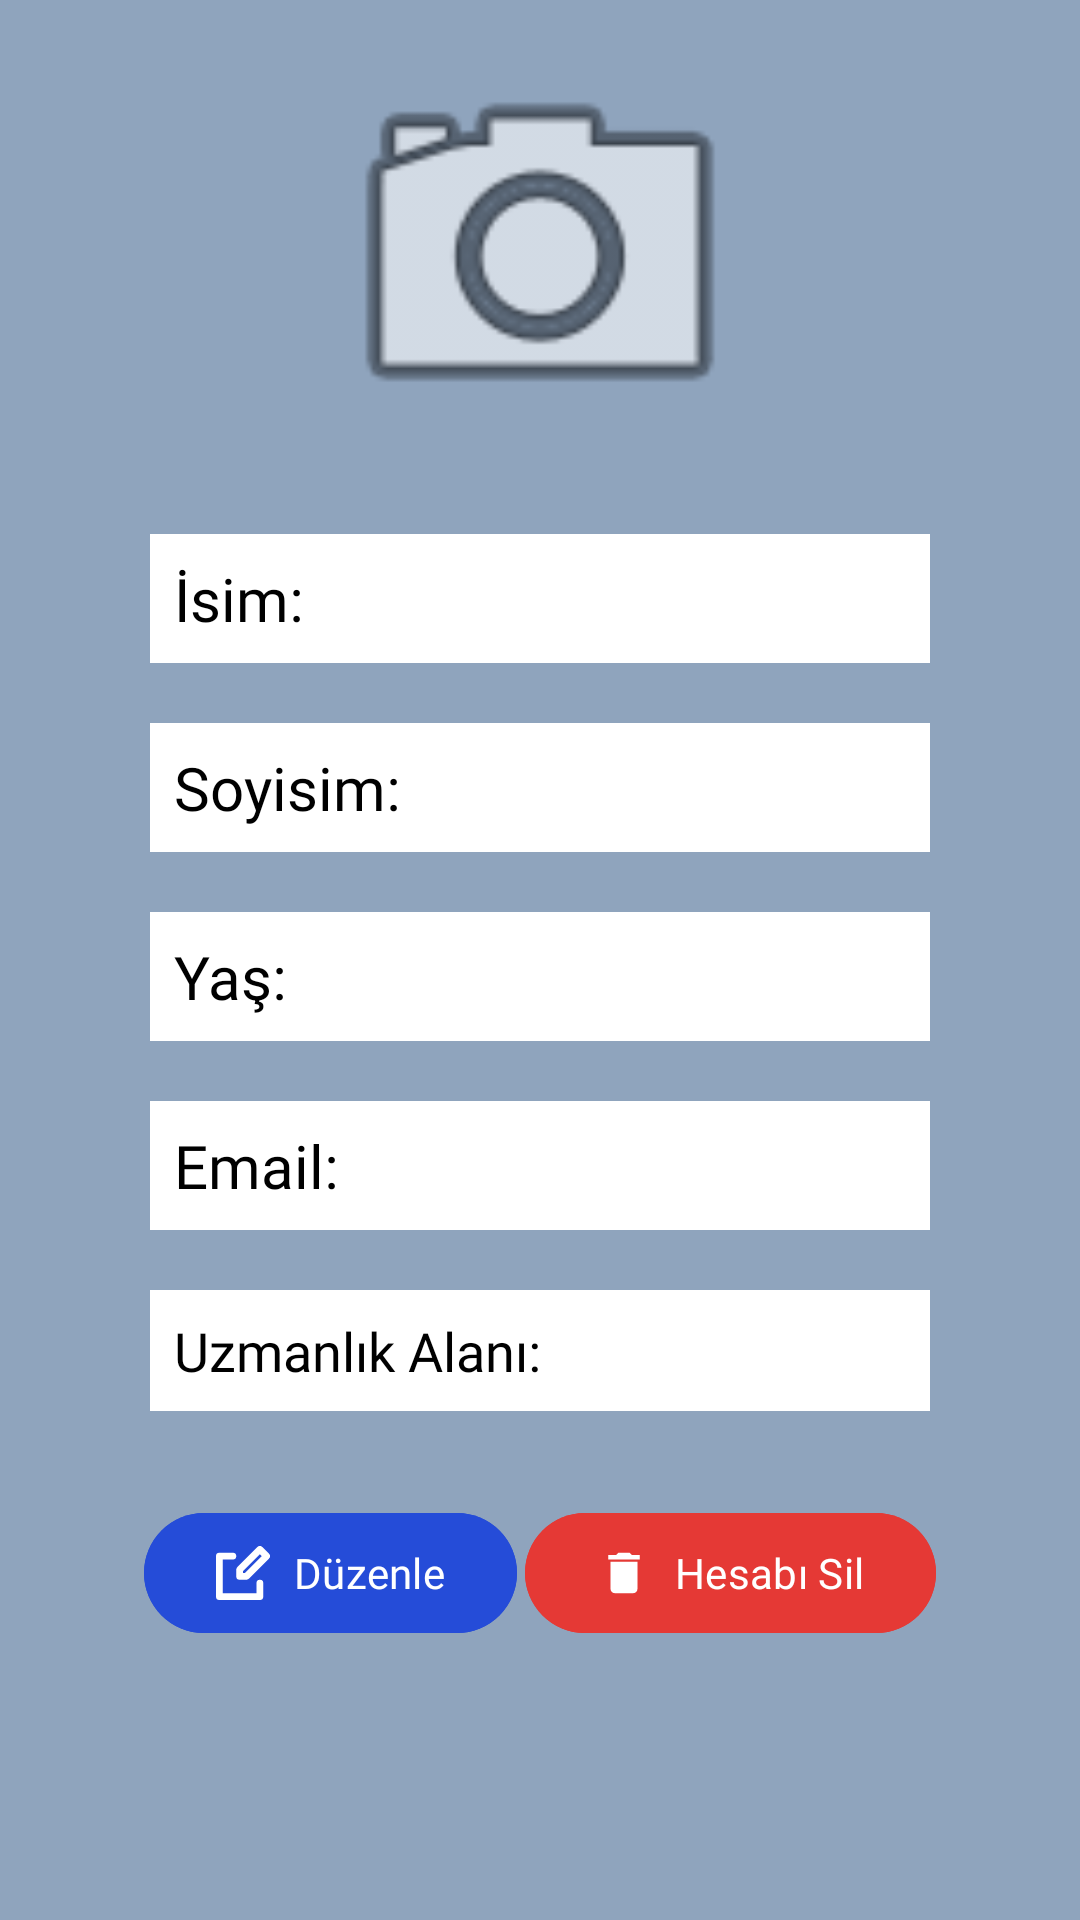

Point at icon controls on the screen. Image size 1080px×1920px, points as (x=x, y=y).
camera: (x=540, y=242)
